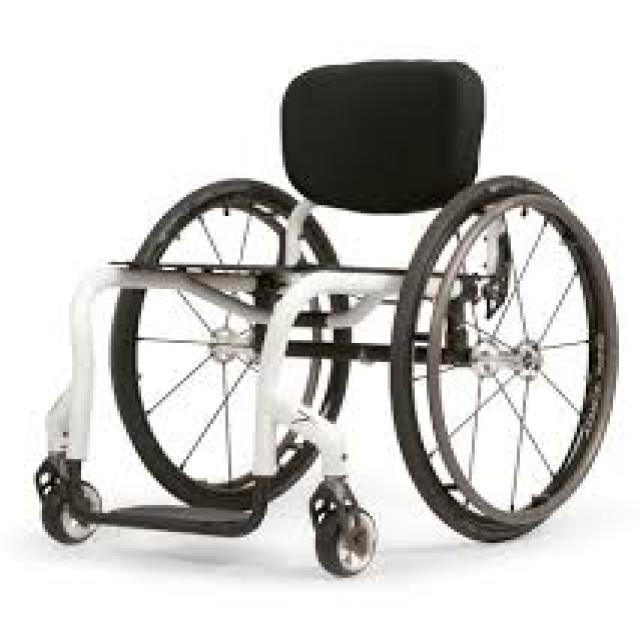wheelchairs: (18, 46, 622, 589)
